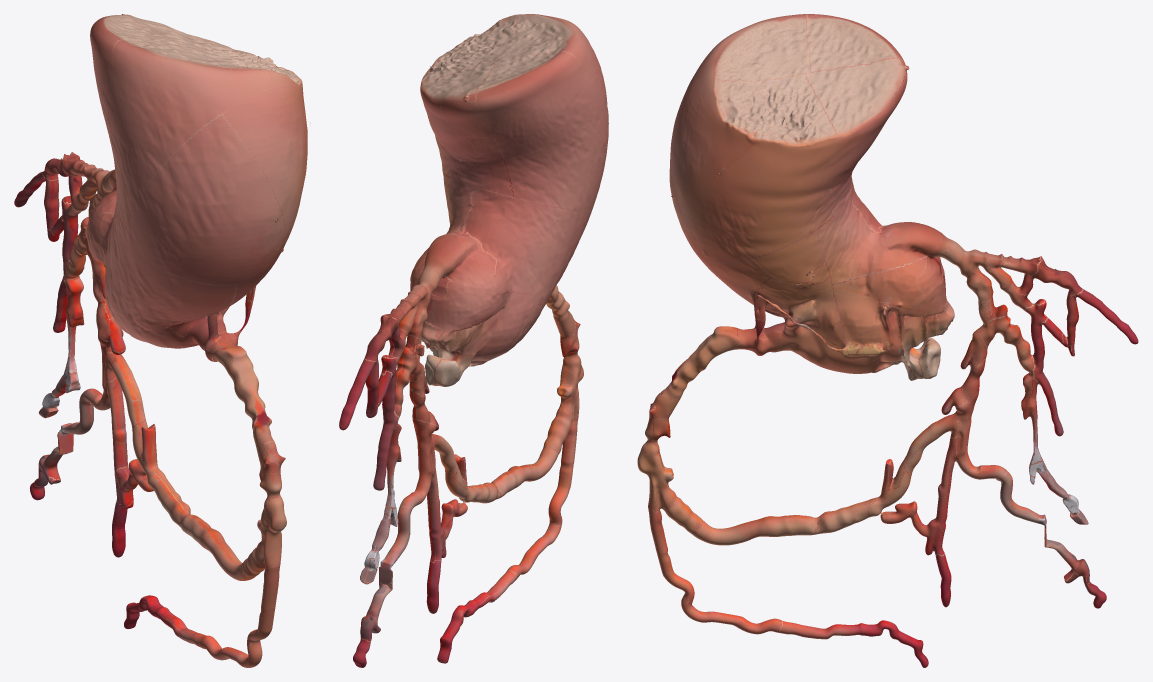
The model's file is Coronary Artery heart.fbx.
3 views of the same model, side by side, from view 1: azimuth 30°, elevation 25°; view 2: azimuth 150°, elevation 25°; view 3: azimuth 270°, elevation 25° (orthographic). The views are drawn at different scales.
Parts seen in each view (by area): view 1: tripo_node_c4ccc3a3; view 2: tripo_node_c4ccc3a3; view 3: tripo_node_c4ccc3a3.
Part boxes in pixels (left/top/right/bottom): tripo_node_c4ccc3a3: left=14, top=14, right=310, bottom=667; tripo_node_c4ccc3a3: left=339, top=14, right=608, bottom=667; tripo_node_c4ccc3a3: left=637, top=14, right=1138, bottom=667.
Bounding box in the file's own units: 113 × 402 × 295.
1 material, 1 textured.
